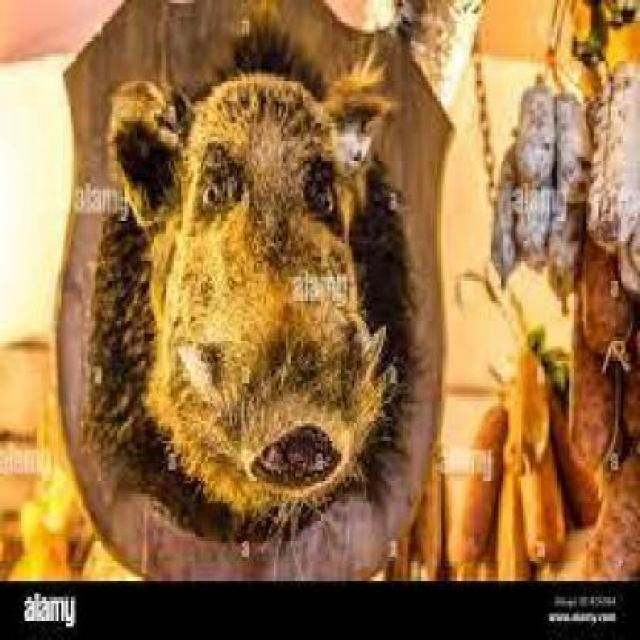wildboar: (83, 46, 400, 546)
